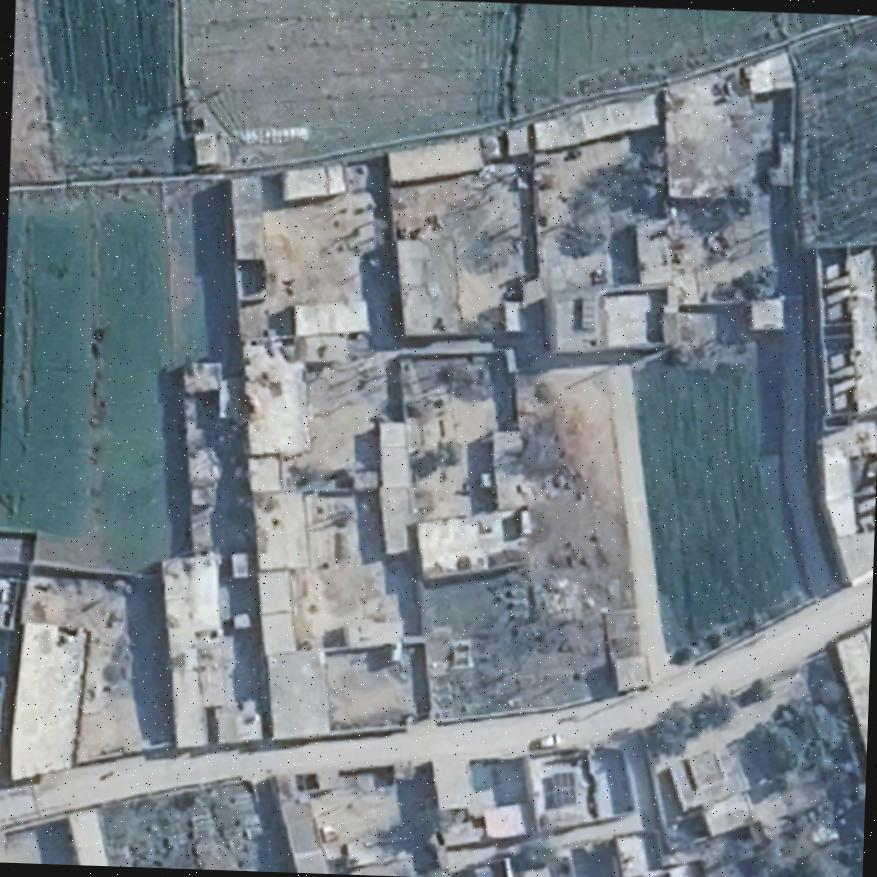Solarpanel: (543, 768, 579, 812), (576, 292, 597, 334)
